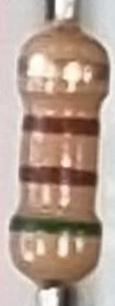Brown: (9, 212, 104, 240), (21, 112, 100, 137), (19, 164, 98, 188)
Side-Gold: (18, 56, 111, 83)
